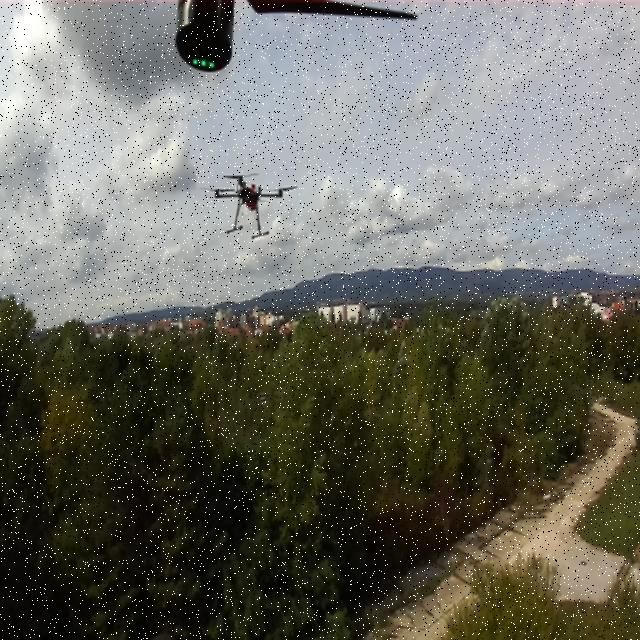UAV: (200, 169, 300, 241)
